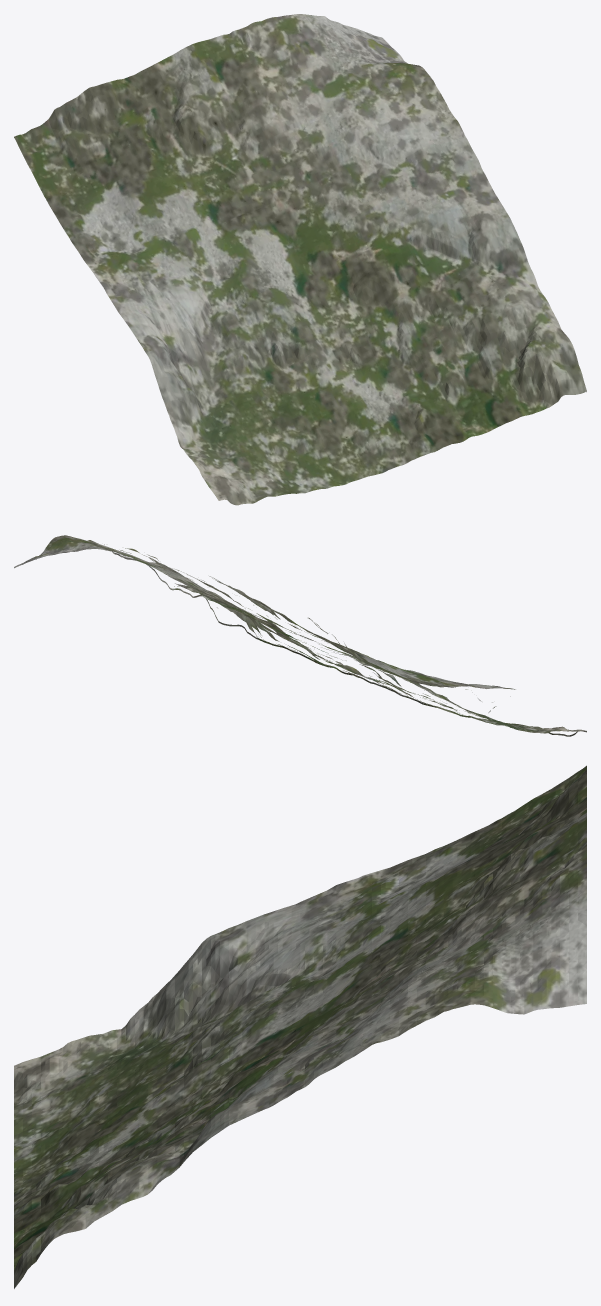
3 views of the same model, one above another, from view 1: azimuth 30°, elevation 25°; view 2: azimuth 150°, elevation 25°; view 3: azimuth 270°, elevation 25° (orthographic). The views are drawn at different scales.
Bounding box in the file's own units: 250 × 186 × 241.
1 material, 1 textured.
